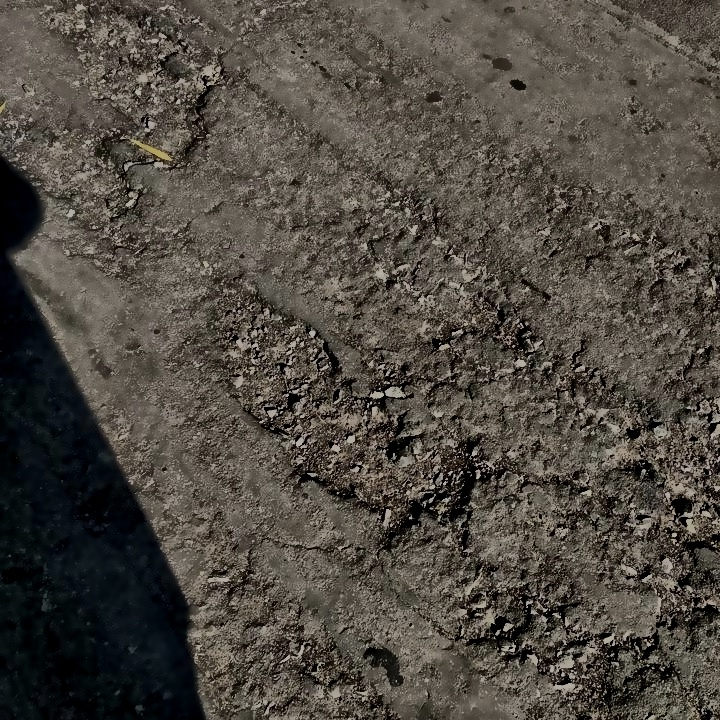pothole: (38, 0, 230, 164), (278, 394, 488, 540), (198, 288, 350, 427), (28, 130, 140, 231)
